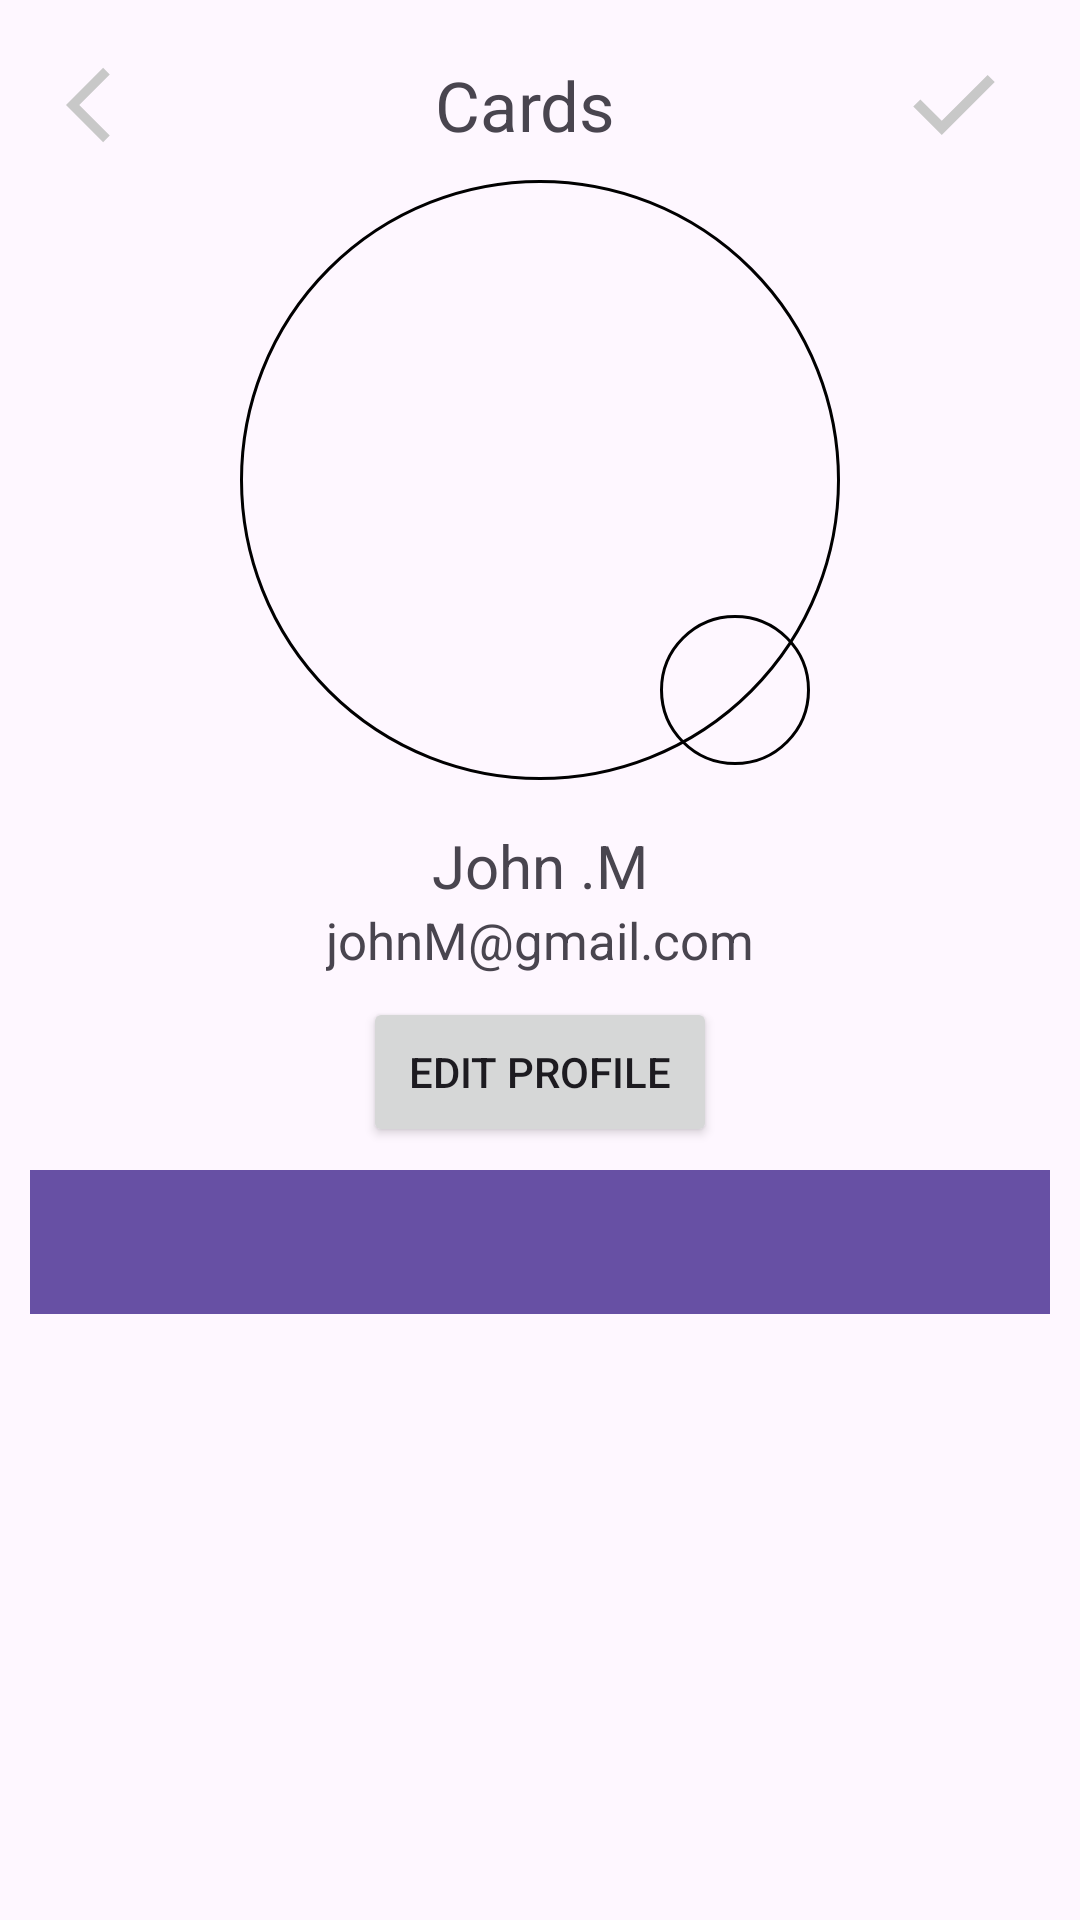

Screen size 1080px×1920px. Icon name, then its center in pixels as [x,y]:
arrow back: [88,105]
